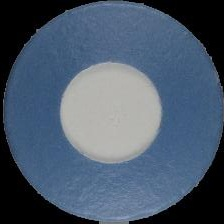0173-0759: (0, 0, 224, 224)
